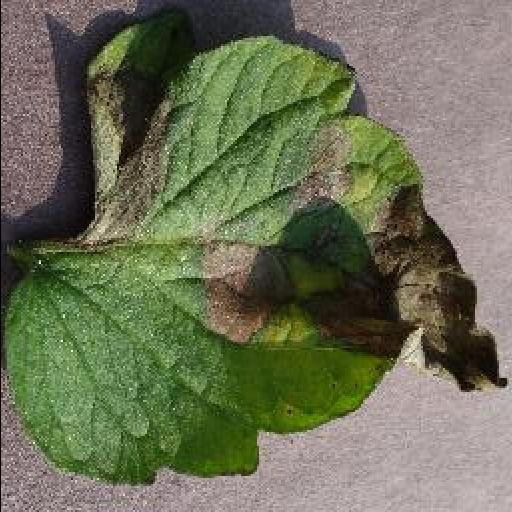disease_tomato: (0, 10, 510, 488)
